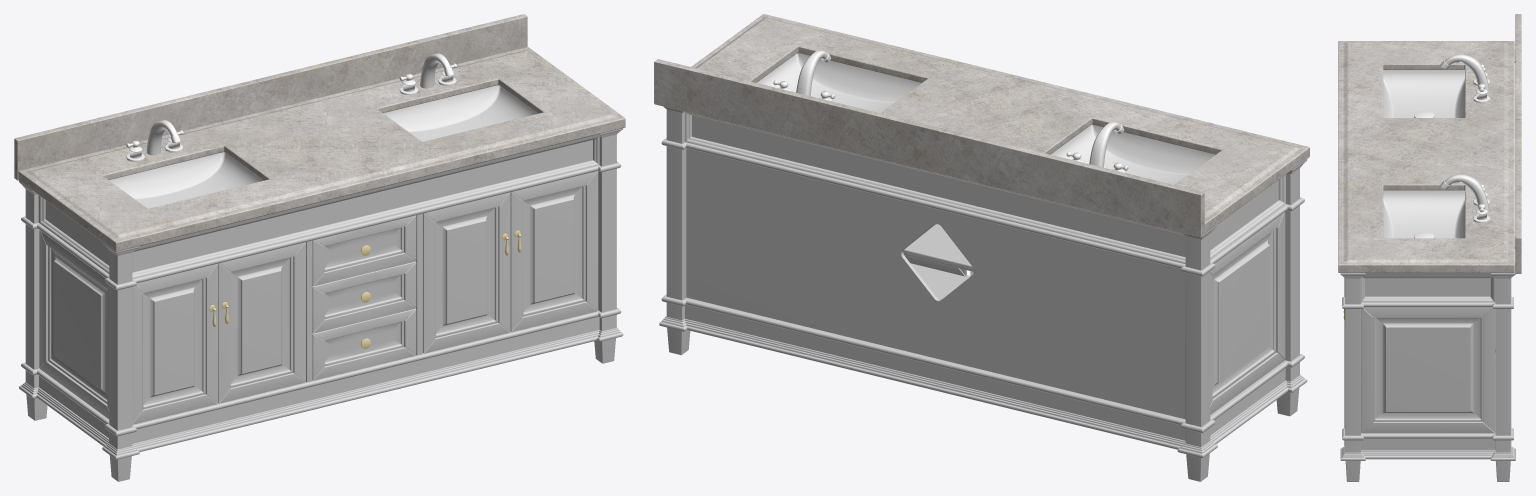
Rendered from vanity.gltf.
The picture shows the model from 3 angles, left to right: view 1: azimuth 30°, elevation 25°; view 2: azimuth 150°, elevation 25°; view 3: azimuth 270°, elevation 25°; orthographic projection. The views are drawn at different scales.
Parts seen in each view (by area): view 1: vanity_xc_woodMesh, vanity_xc_marbleMesh, vanity_xc_lacqMesh, vanity_xc_chromeMesh, vanity_xc_handleMesh; view 2: vanity_xc_woodMesh, vanity_xc_marbleMesh, vanity_xc_lacqMesh, vanity_xc_chromeMesh; view 3: vanity_xc_marbleMesh, vanity_xc_woodMesh, vanity_xc_lacqMesh, vanity_xc_chromeMesh.
Part boxes in pixels (left/top/right/bottom): vanity_xc_woodMesh: left=19, top=128, right=623, bottom=481; vanity_xc_marbleMesh: left=14, top=14, right=625, bottom=251; vanity_xc_lacqMesh: left=109, top=85, right=537, bottom=208; vanity_xc_chromeMesh: left=126, top=53, right=459, bottom=201; vanity_xc_handleMesh: left=209, top=230, right=521, bottom=349; vanity_xc_woodMesh: left=659, top=106, right=1307, bottom=481; vanity_xc_marbleMesh: left=654, top=14, right=1309, bottom=237; vanity_xc_lacqMesh: left=757, top=53, right=1215, bottom=184; vanity_xc_chromeMesh: left=773, top=50, right=1128, bottom=172; vanity_xc_marbleMesh: left=1338, top=14, right=1521, bottom=273; vanity_xc_woodMesh: left=1340, top=50, right=1515, bottom=481; vanity_xc_lacqMesh: left=1383, top=70, right=1464, bottom=238; vanity_xc_chromeMesh: left=1414, top=54, right=1489, bottom=238.
Bounding box in the file's own units: 1.86 × 0.9953 × 0.6418.
5 materials, 1 textured.
